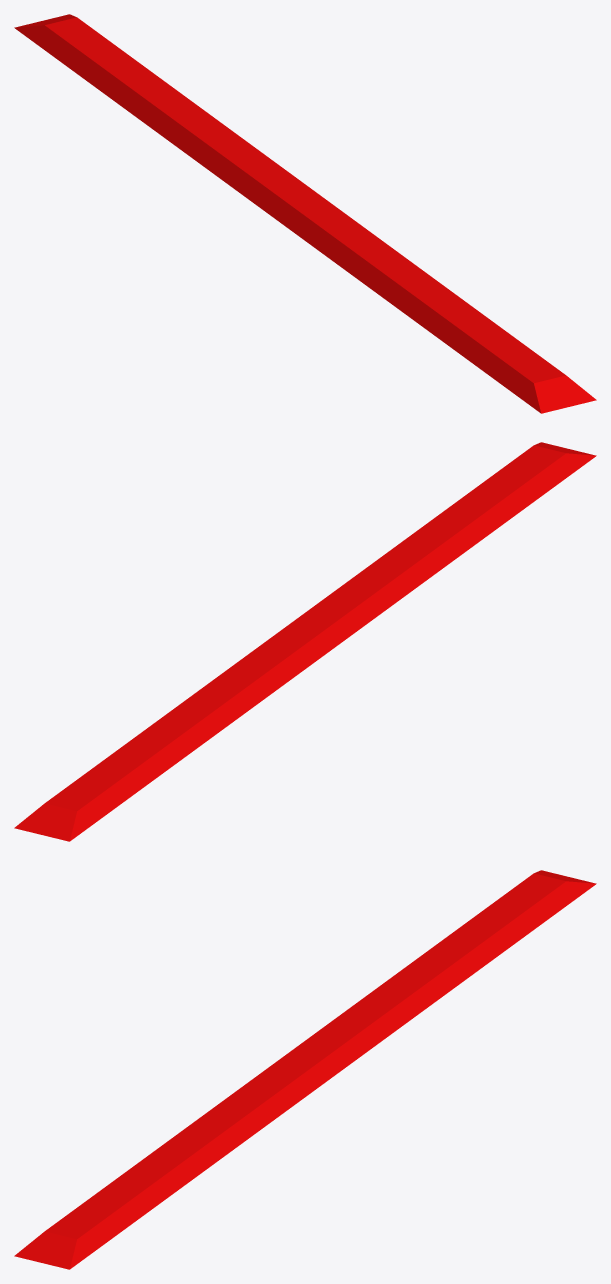
Rendered from SM_Env_Road_SpeedBump_01_Collision.fbx.
The picture shows the model from 3 angles, top to bottom: view 1: azimuth 30°, elevation 25°; view 2: azimuth 150°, elevation 25°; view 3: azimuth 330°, elevation 25°; orthographic projection.
Visible parts, largest first — view 1: SM_Env_Road_SpeedBump_01_Collision; view 2: SM_Env_Road_SpeedBump_01_Collision; view 3: SM_Env_Road_SpeedBump_01_Collision.
Boxes of the visible parts, <box> form: SM_Env_Road_SpeedBump_01_Collision: <box>14,14,596,413</box>; SM_Env_Road_SpeedBump_01_Collision: <box>14,442,596,841</box>; SM_Env_Road_SpeedBump_01_Collision: <box>14,870,596,1269</box>.
Size of the model in its own units: 54.04 by 12.67 by 887.
